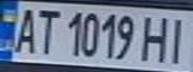0: (78, 9, 100, 57)
1: (60, 8, 84, 57), (100, 10, 121, 60)
9: (115, 11, 142, 61)
A: (9, 4, 42, 55)
H: (136, 12, 175, 63)
I: (160, 13, 193, 64)
T: (30, 6, 60, 55)
